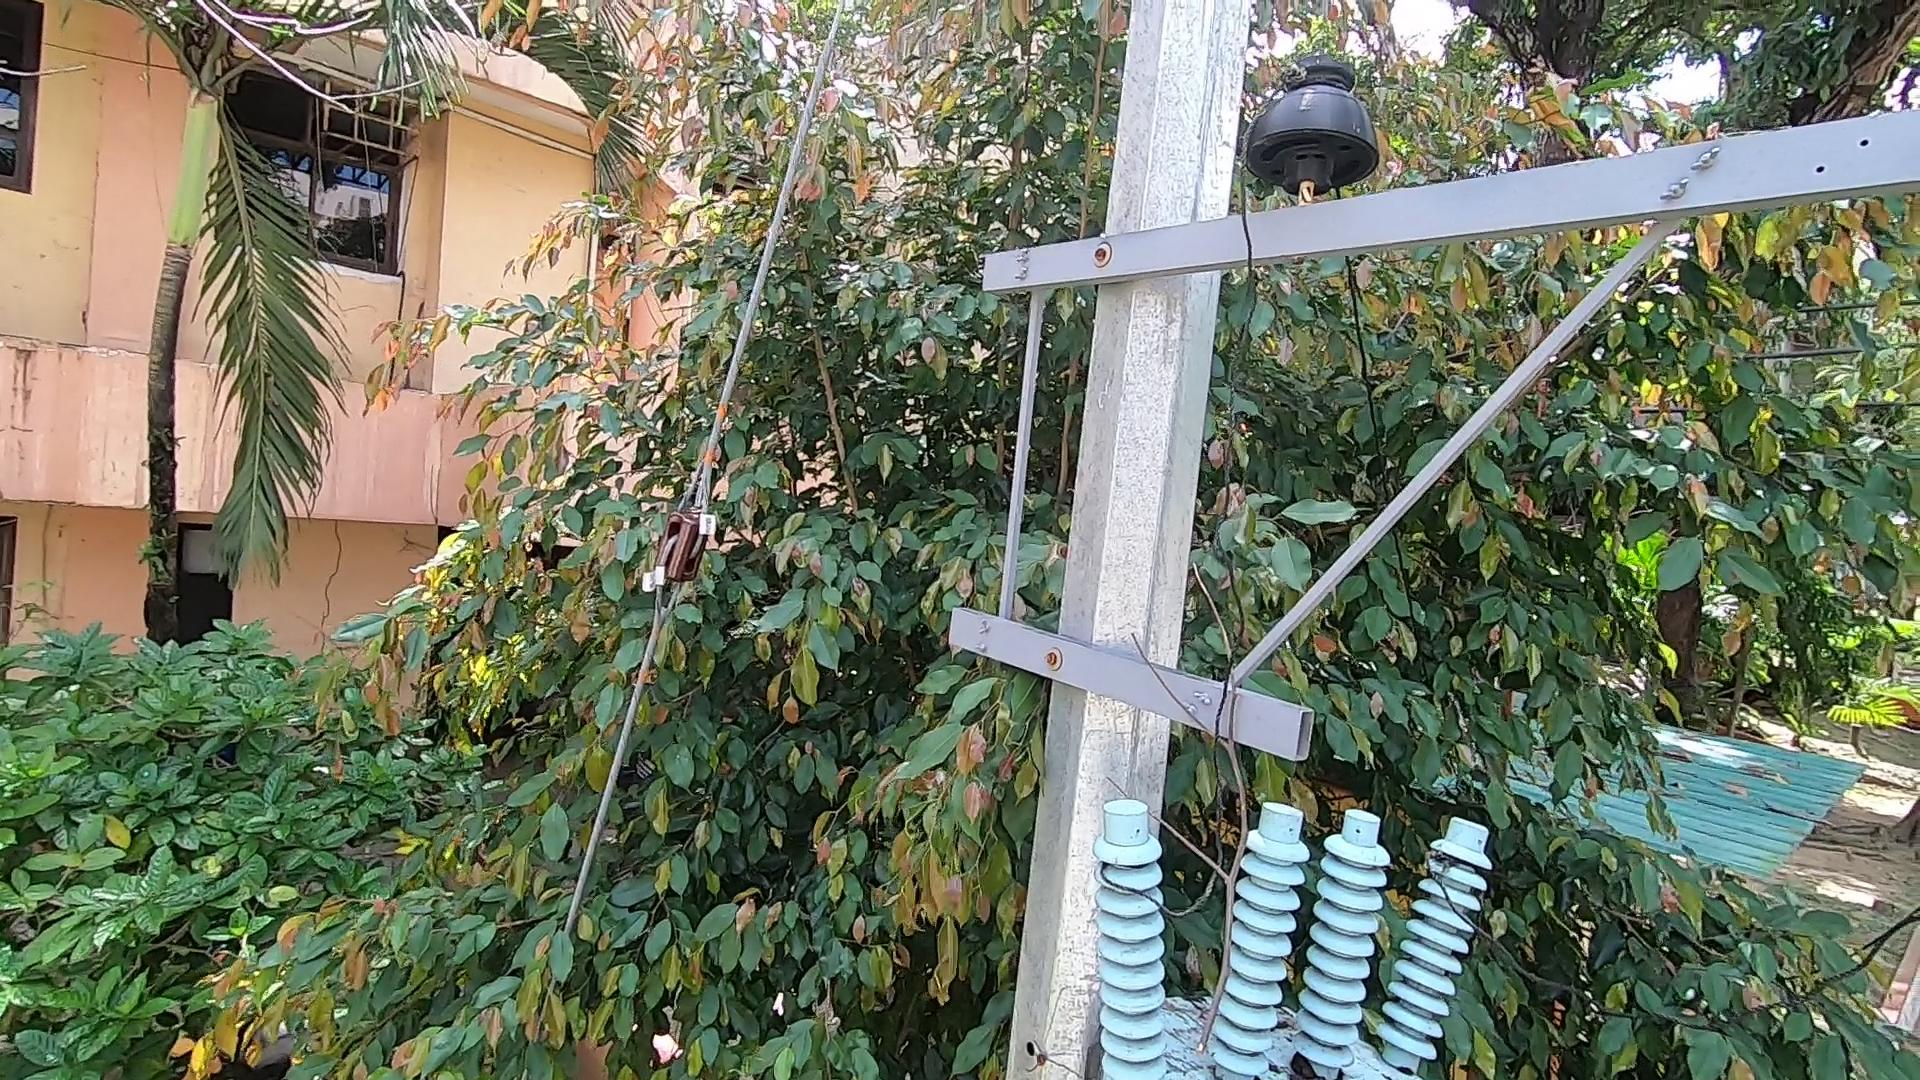leaf: (1274, 1044, 1320, 1080)
tree branch: (1101, 516, 1302, 1050)
